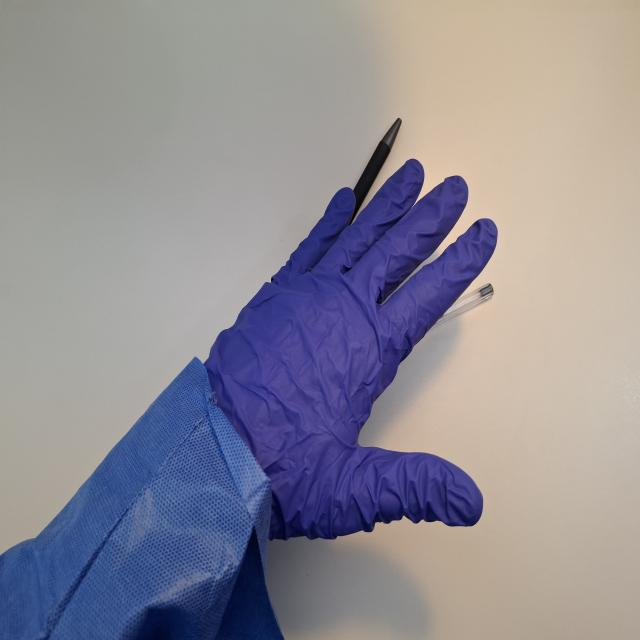glove_on: (198, 155, 500, 548)
